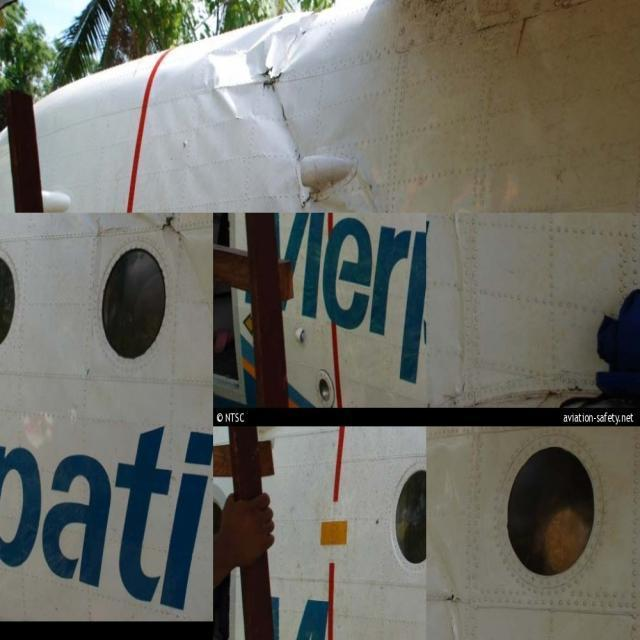crack: (261, 63, 290, 125), (159, 214, 187, 240)
dent: (204, 12, 328, 127)
